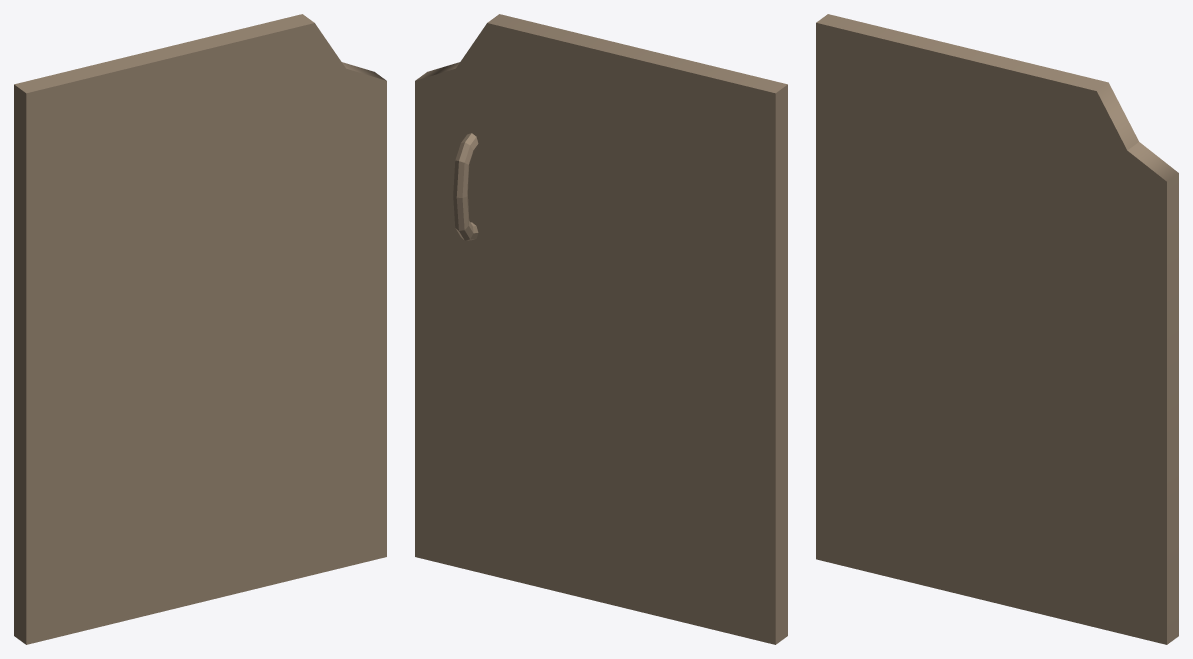
The model's file is cabinet_Door.fbx.
3 views of the same model, side by side, from view 1: azimuth 30°, elevation 25°; view 2: azimuth 150°, elevation 25°; view 3: azimuth 330°, elevation 25° (orthographic). The views are drawn at different scales.
Visible parts, largest first — view 1: cabinet_Door; view 2: cabinet_Door, polySurface727; view 3: cabinet_Door.
Boxes of the visible parts, x1,y1,x2,y2 form: cabinet_Door: (14, 14, 386, 644); cabinet_Door: (415, 14, 787, 644); polySurface727: (453, 133, 478, 240); cabinet_Door: (816, 14, 1178, 644).
Bounding box in the file's own units: 120 × 176 × 15.81.
